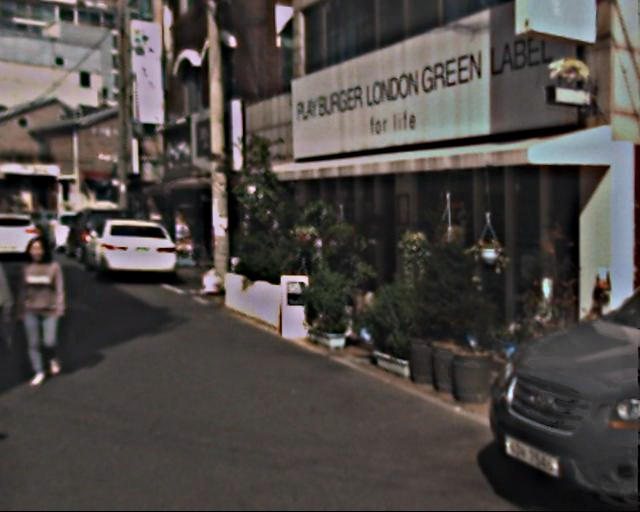person: (10, 231, 80, 384)
